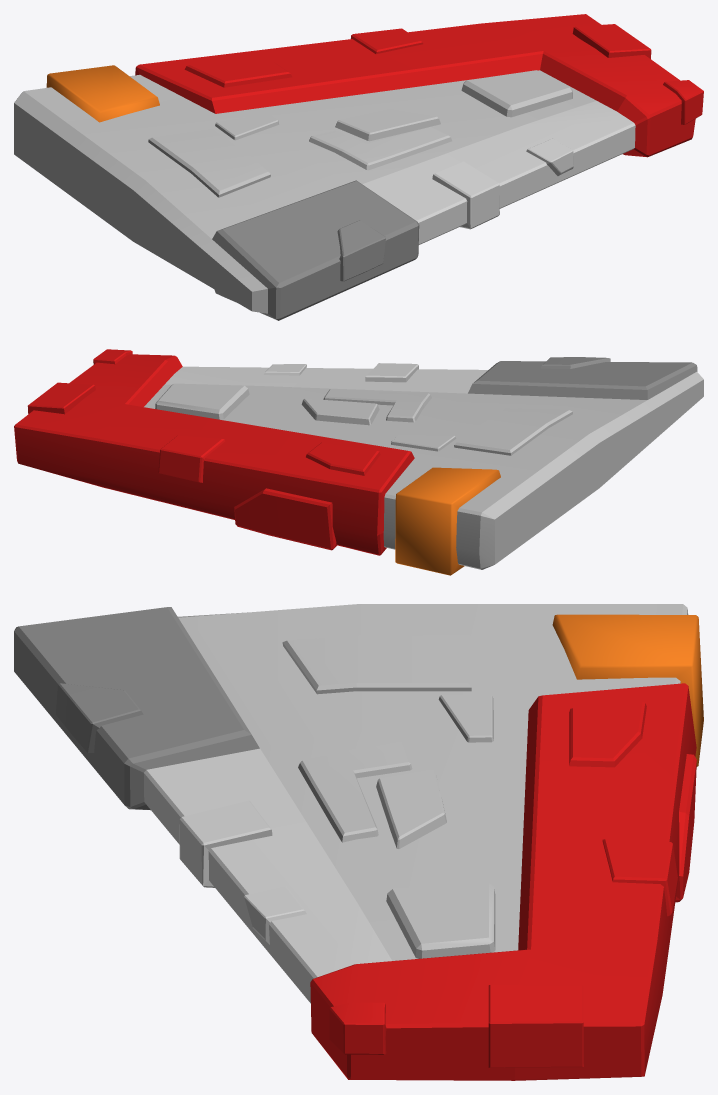
Rendered from Wing01.fbx.
3 renders of one model, top to bottom at view 1: azimuth 30°, elevation 25°; view 2: azimuth 150°, elevation 25°; view 3: azimuth 270°, elevation 25°, orthographic. The views are drawn at different scales.
Visible parts, largest first — view 1: Wing01; view 2: Wing01; view 3: Wing01.
Part boxes in pixels (<box>): Wing01: <box>14,14,703,320</box>; Wing01: <box>14,349,703,575</box>; Wing01: <box>14,604,703,1080</box>.
Bounding box in the file's own units: 467 × 366 × 79.27.
